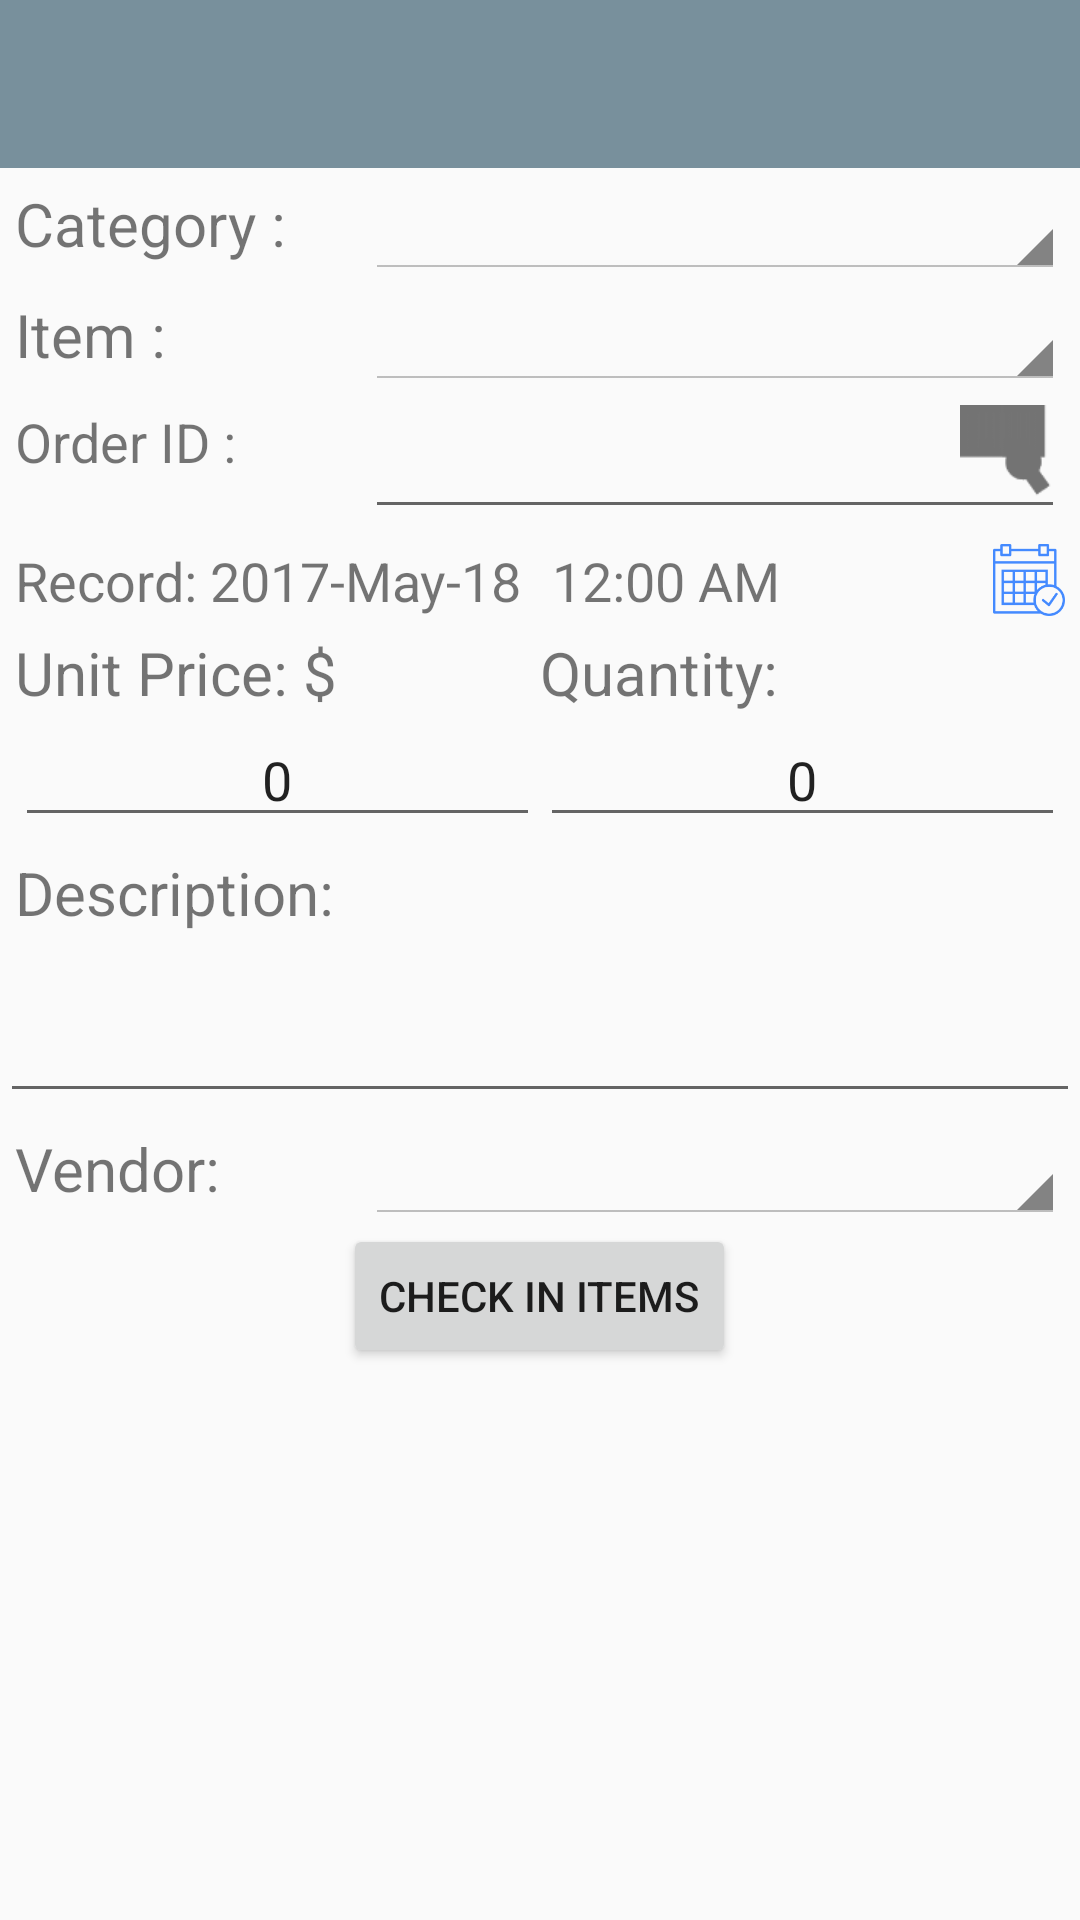

Icon bounding boxes for this 1080px x 1920px phone screenshot, format (x1,y1,x2,y2):
datepicker: (993,544,1065,616)
